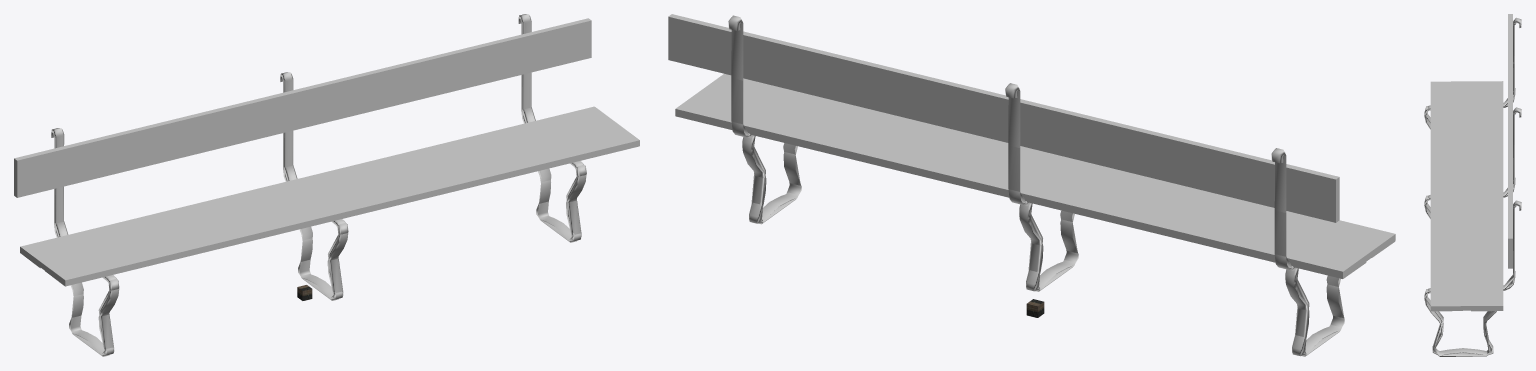
The model's file is prop_bench_10.obj.
3 renders of one model, left to right at view 1: azimuth 30°, elevation 25°; view 2: azimuth 150°, elevation 25°; view 3: azimuth 270°, elevation 25°, orthographic. The views are drawn at different scales.
Size of the model in its own units: 2.99 by 1.05 by 0.5474.
